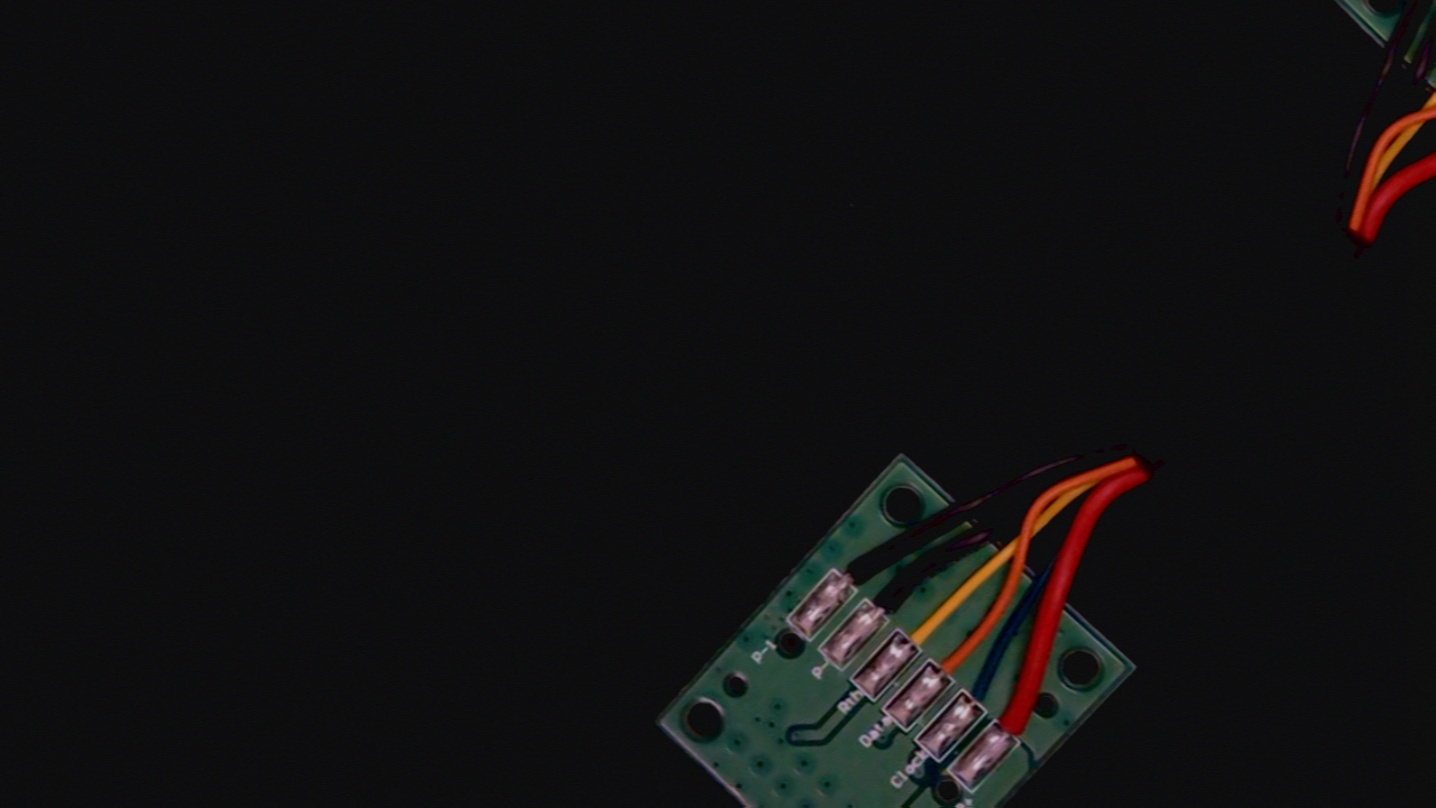Black: (845, 558, 929, 643)
Black1: (815, 532, 894, 612)
Green: (941, 650, 1022, 734)
Orange: (911, 619, 993, 703)
Red: (975, 683, 1058, 767)
Yellow: (878, 588, 963, 674)
